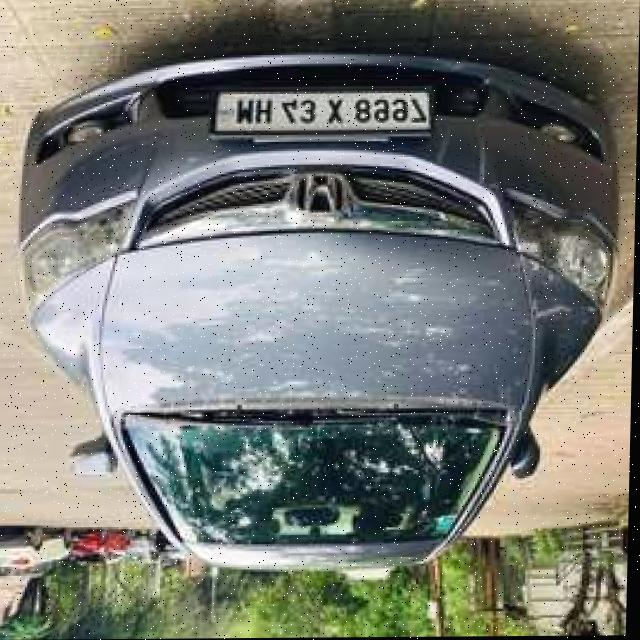plate: (218, 89, 434, 138)
